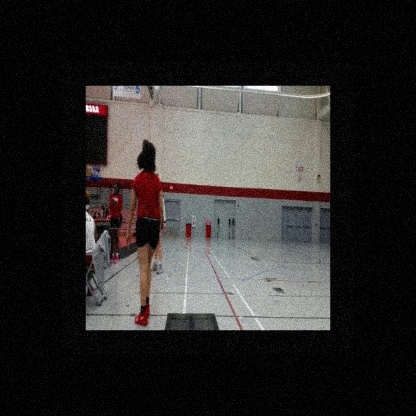lateral_flexion_left: (125, 138, 164, 330)
stance_width_narrow: (134, 168, 164, 330)
